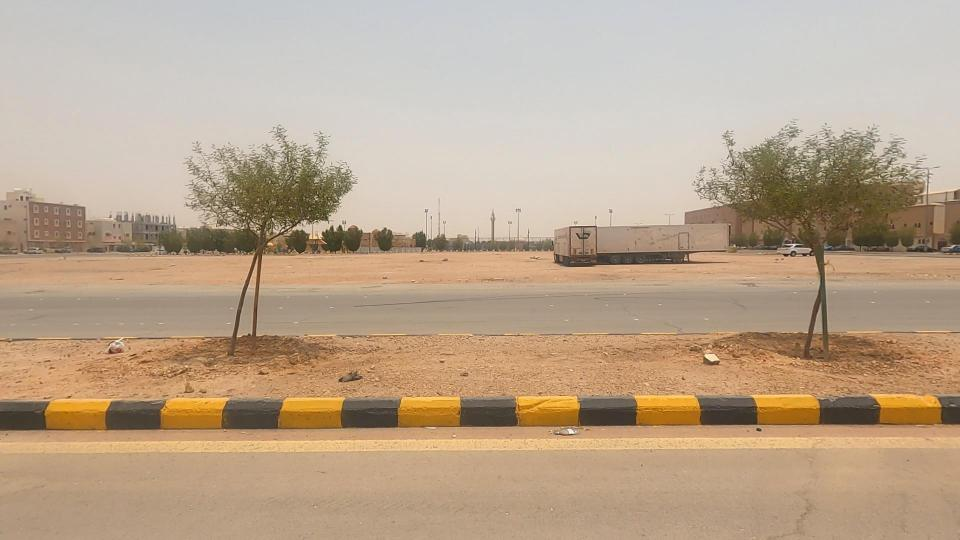GARBAGE: (66, 304, 161, 384), (296, 356, 398, 400)
